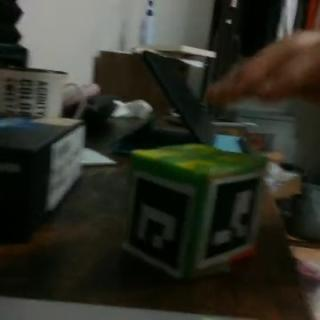armor: (124, 173, 196, 277), (200, 173, 264, 270)
robot: (122, 142, 270, 282)
